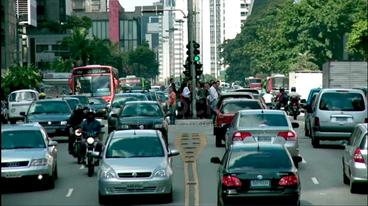bus: (67, 58, 129, 114)
car: (207, 134, 312, 206), (90, 125, 183, 206), (216, 98, 308, 159), (0, 118, 60, 197), (300, 86, 368, 146), (18, 92, 76, 137)
motorcycle: (75, 123, 106, 177), (65, 118, 91, 165)
